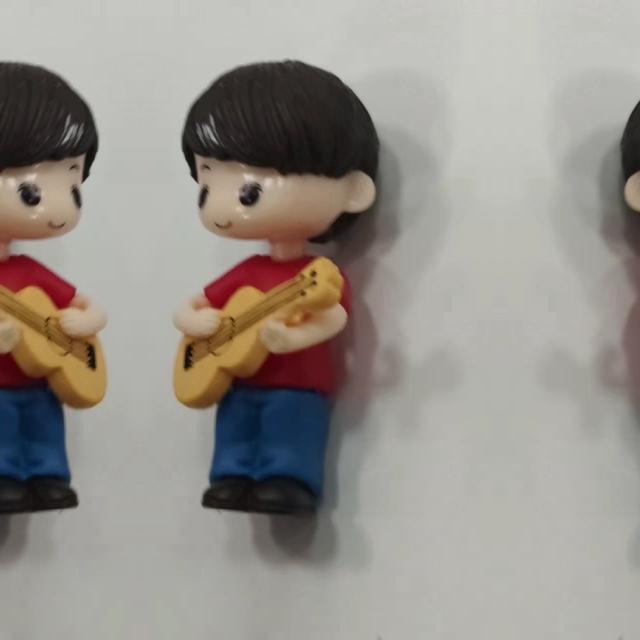man cloth: (172, 254, 360, 404), (0, 254, 108, 404), (639, 254, 640, 404)
man head: (165, 58, 387, 252), (0, 58, 115, 251), (613, 58, 640, 251)
trousers: (196, 384, 330, 528), (0, 384, 84, 528)
